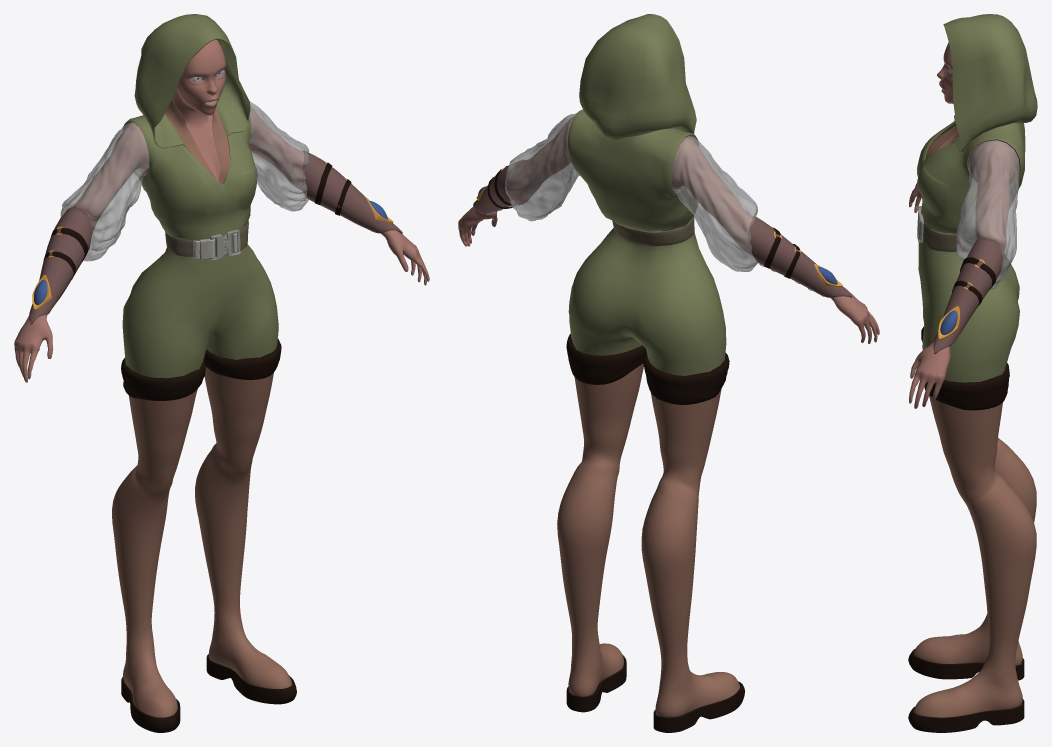
Rendered from siera_low_02.fbx.
3 renders of one model, left to right at view 1: azimuth 30°, elevation 25°; view 2: azimuth 150°, elevation 25°; view 3: azimuth 270°, elevation 25°, orthographic.
Visible parts, largest first — view 1: body_cloth, boots, body, sleeve_R, sleeve_L, upper_leg_cloth, glove_R, glove_L, sole, belt, neck_part; view 2: body_cloth, boots, body, sleeve_R, sleeve_L, upper_leg_cloth, glove_R, sole, belt, glove_L; view 3: body_cloth, boots, body, sleeve_L, sole, glove_L, upper_leg_cloth, belt, neck_part, gemme_L, arm_L_ring_top, gemme_holder_L.
Boxes of the visible parts, box(x1,y1,x2,y2) form: body_cloth: box(122, 14, 278, 378); boots: box(112, 367, 292, 717); body: box(14, 39, 429, 382); sleeve_R: box(60, 122, 149, 261); sleeve_L: box(248, 101, 309, 211); upper_leg_cloth: box(121, 339, 281, 400); glove_R: box(29, 207, 92, 324); glove_L: box(302, 150, 402, 233); sole: box(121, 654, 296, 732); belt: box(165, 221, 248, 260); neck_part: box(165, 98, 230, 184); body_cloth: box(567, 14, 726, 375); boots: box(557, 363, 740, 717); body: box(458, 117, 879, 343); sleeve_R: box(671, 136, 757, 271); sleeve_L: box(505, 113, 579, 221); upper_leg_cloth: box(566, 334, 729, 404); glove_R: box(748, 215, 852, 297); sole: box(566, 654, 744, 732); belt: box(612, 216, 694, 246); glove_L: box(473, 159, 533, 213); body_cloth: box(917, 14, 1037, 382); boots: box(914, 395, 1036, 717); body: box(909, 42, 1019, 408); sleeve_L: box(956, 140, 1019, 289); sole: box(908, 649, 1024, 732); glove_L: box(933, 237, 1003, 353); upper_leg_cloth: box(921, 326, 1009, 410); belt: box(917, 206, 976, 251); neck_part: box(925, 125, 959, 158); gemme_L: box(940, 310, 957, 334); arm_L_ring_top: box(960, 257, 996, 289); gemme_holder_L: box(938, 306, 960, 339).
Bounding box in the file's own units: 1.08 × 1.72 × 0.2981.
